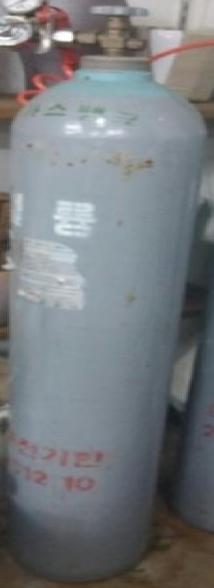cylinder: (0, 1, 214, 588)
